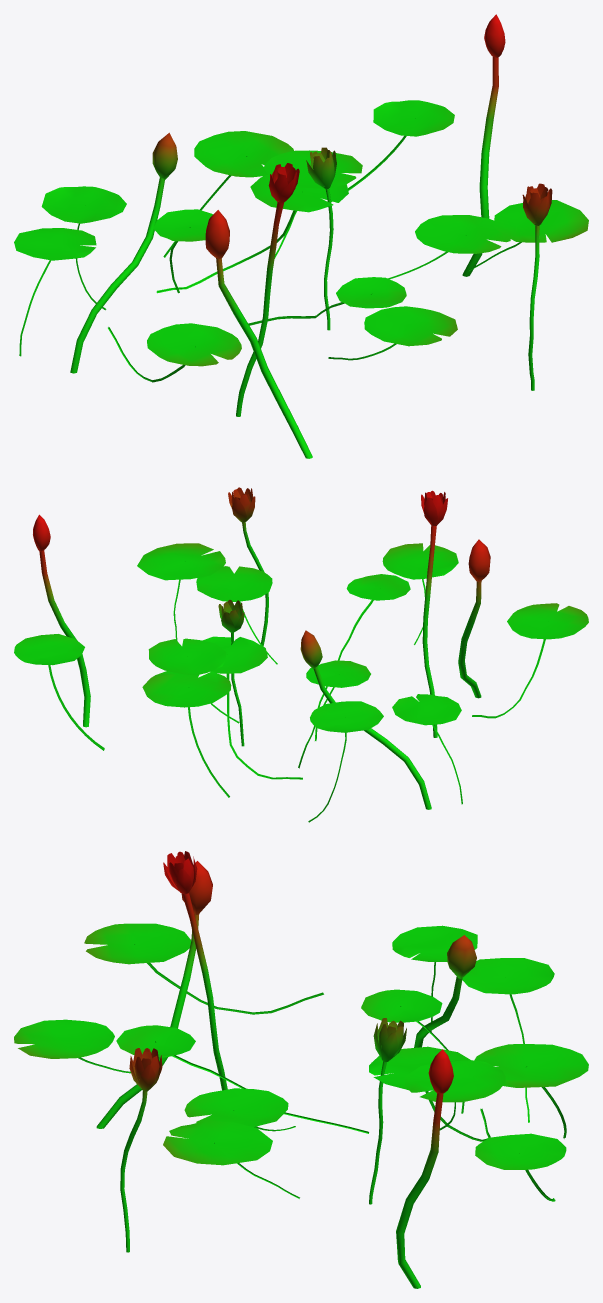
The model's file is Var3_LOD0.fbx.
3 renders of one model, top to bottom at view 1: azimuth 30°, elevation 25°; view 2: azimuth 150°, elevation 25°; view 3: azimuth 270°, elevation 25°, orthographic. The views are drawn at different scales.
Parts seen in each view (by area): view 1: _497d_Var3_LOD0; view 2: _497d_Var3_LOD0; view 3: _497d_Var3_LOD0.
Boxes of the visible parts, <box> form: _497d_Var3_LOD0: <box>14,14,588,458</box>; _497d_Var3_LOD0: <box>14,487,588,822</box>; _497d_Var3_LOD0: <box>14,851,588,1288</box>.
Bounding box in the file's own units: 139 × 70.39 × 131.
